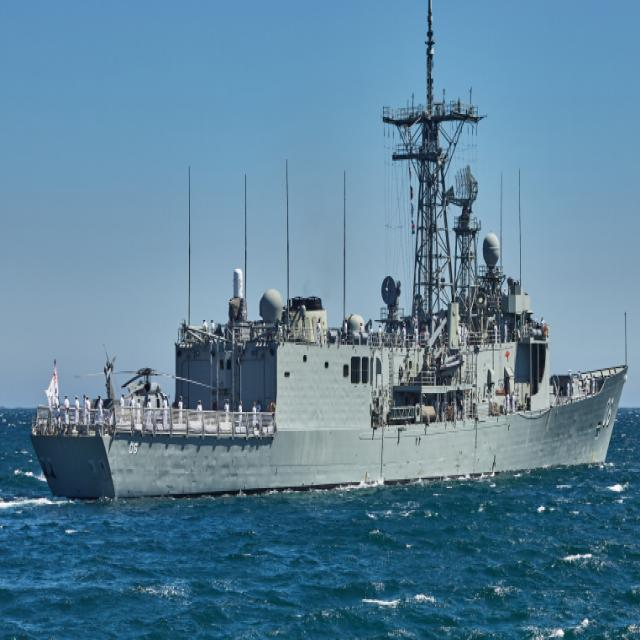Fragata: (29, 1, 632, 511)
